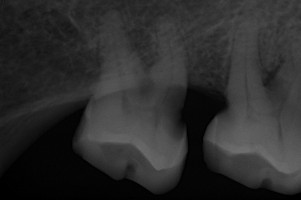Endo-Periodontal Lesion: (261, 54, 285, 87)
